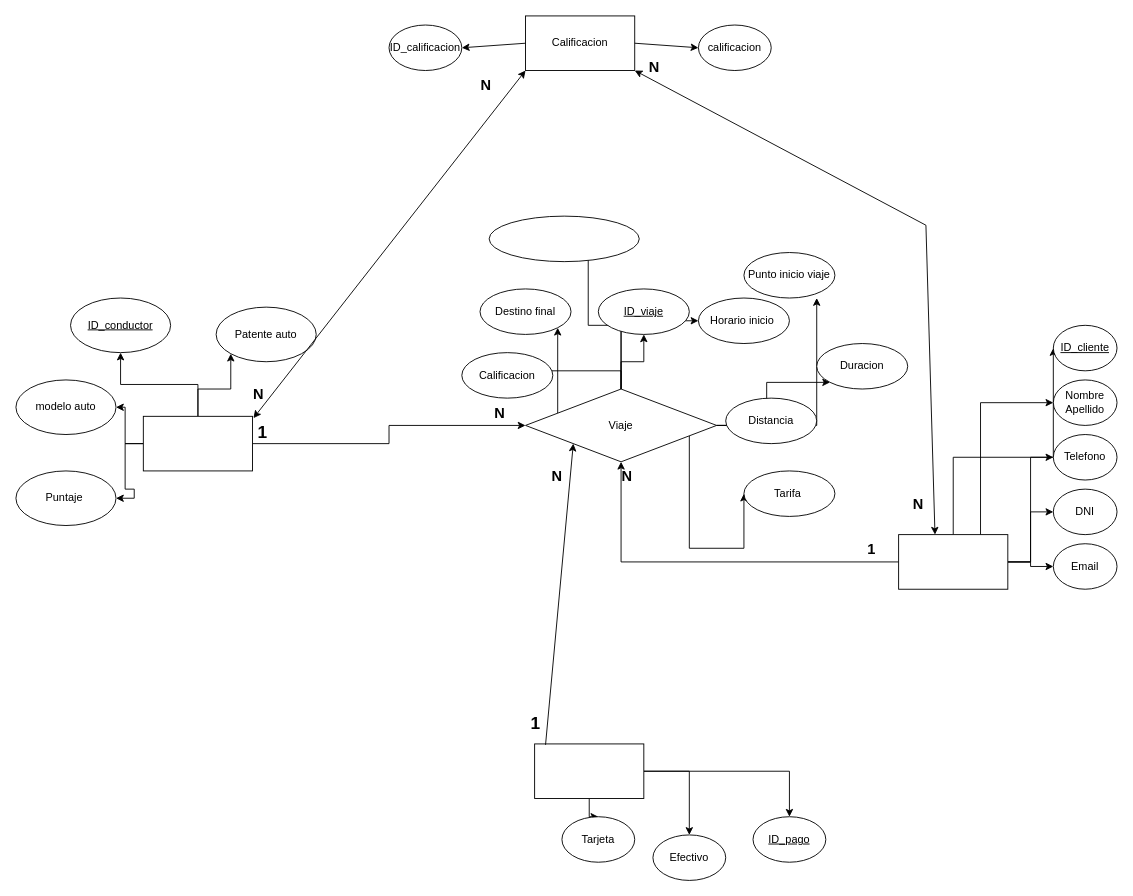
Some shapes in this 1133 by 896 pixel diagram are drawn without their labels. The shapes that lost their labels are listed below. From the top down, each one's centre as x and y in pixels, then its label:
(x=563, y=238): Forma de pago
(x=197, y=443): Conductor
(x=953, y=561): CLIENTE
(x=589, y=771): Formas de pago
